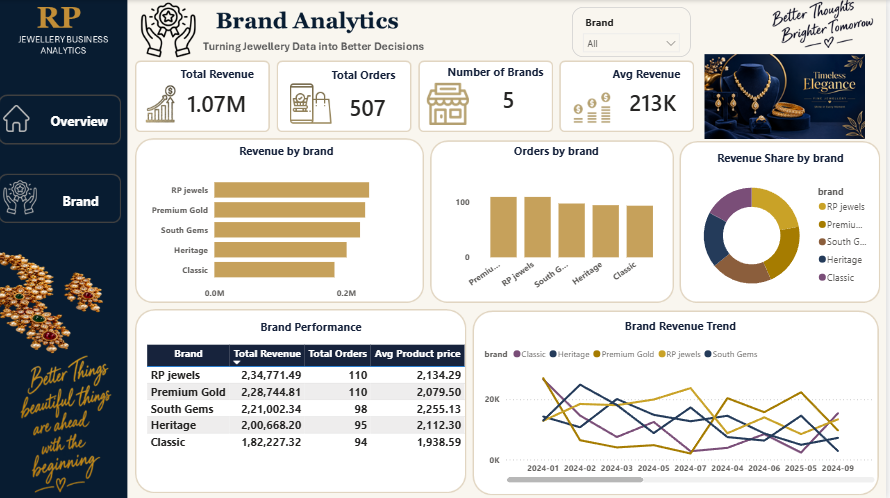

This screenshot's page, from the dashboard's own definition file:
{"tool":"powerbi","page":{"name":"Brand Analytics","canvas":[1280,720],"ordinal":3},"visuals":[{"type":"clusteredBarChart","title":"Revenue by brand","fields":{"Category":["Jewellry Data.brand"],"Y":["DateTable.Total Revenue"]},"box":[214.6,205.9,401.8,234.7],"z":0},{"type":"clusteredColumnChart","title":"Orders by brand","fields":{"Category":["Jewellry Data.brand"],"Y":["DateTable.Total Orders"]},"box":[639.4,205.9,329.8,224.6],"z":1000},{"type":"donutChart","title":"Revenue Share by brand","fields":{"Category":["Jewellry Data.brand"],"Y":["DateTable.Total Revenue"]},"box":[985,216,283.7,214.6],"z":2000},{"type":"tableEx","title":"Brand Performance","fields":{"Values":["Jewellry Data.brand","DateTable.Total Revenue","DateTable.Total Orders","DateTable.Avg_Product_price"]},"box":[208.8,459.4,483.8,241.9],"z":3000},{"type":"lineChart","title":"Brand Revenue Trend","fields":{"Category":["DateTable.Year Month"],"Y":["DateTable.Total Revenue"],"Series":["Jewellry Data.brand"]},"box":[695.5,457.9,574.6,241.9],"z":4000},{"type":"cardVisual","fields":{"Data":["DateTable.Total Revenue"]},"box":[243.4,108,154.1,79.2],"z":5000},{"type":"textbox","box":[257.8,90.7,128.2,36],"z":6000},{"type":"cardVisual","fields":{"Data":["DateTable.Total Orders"]},"box":[476.6,115.2,126.7,74.9],"z":7000},{"type":"textbox","box":[475.2,92.2,128.2,36],"z":8000},{"type":"cardVisual","fields":{"Data":["DateTable.No_of_brands"]},"box":[697,106.6,82.1,69.1],"z":9000},{"type":"textbox","box":[642.2,87.8,158.4,36],"z":10000},{"type":"textbox","box":[879.8,90.7,135.4,33.1],"z":11000},{"type":"cardVisual","fields":{"Data":["DateTable.Avg_revenue_per_brand"]},"box":[879.8,109.4,129.6,70.6],"z":12000},{"type":"textbox","box":[87.8,272.2,67.7,34.6],"z":13000},{"type":"textbox","box":[70.6,157,99.4,36],"z":14000},{"type":"slicer","fields":{"Values":["Jewellry Data.brand"]},"box":[826.6,10.1,171.4,72],"z":15000},{"type":"actionButton","box":[4.3,146.9,180,66.2],"z":16000}]}

Visuals, with their boxes in screenshot pixels (x1, y1, x2, y2), scaled from the page's 1280x720 canvas onto the 890x498 screenshot:
"Revenue by brand" clusteredBarChart: bbox(149, 142, 429, 305)
"Orders by brand" clusteredColumnChart: bbox(445, 142, 674, 298)
"Revenue Share by brand" donutChart: bbox(685, 149, 882, 298)
"Brand Performance" tableEx: bbox(145, 318, 482, 485)
"Brand Revenue Trend" lineChart: bbox(484, 317, 883, 484)
cardVisual - DateTable.Total Revenue: bbox(169, 75, 276, 129)
textbox: bbox(179, 63, 268, 88)
cardVisual - DateTable.Total Orders: bbox(331, 80, 419, 131)
textbox: bbox(330, 64, 420, 89)
cardVisual - DateTable.No_of_brands: bbox(485, 74, 542, 122)
textbox: bbox(447, 61, 557, 86)
textbox: bbox(612, 63, 706, 86)
cardVisual - DateTable.Avg_revenue_per_brand: bbox(612, 76, 702, 124)
textbox: bbox(61, 188, 108, 212)
textbox: bbox(49, 109, 118, 133)
slicer - Jewellry Data.brand: bbox(575, 7, 694, 57)
actionButton: bbox(3, 102, 128, 147)
